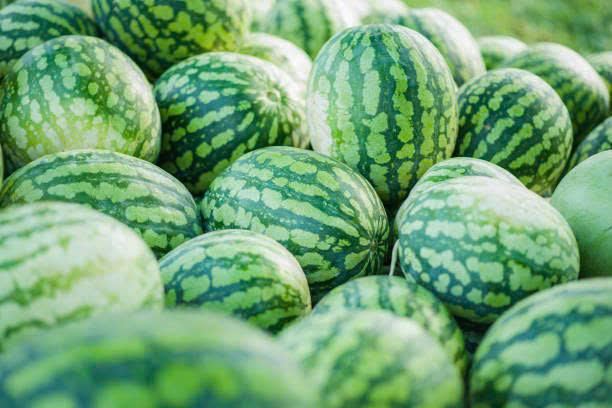watermelon: (404, 149, 573, 307), (309, 27, 464, 183), (205, 151, 379, 262), (8, 41, 163, 162), (12, 146, 195, 248), (302, 285, 452, 408), (2, 203, 156, 322), (153, 230, 329, 328), (170, 39, 309, 160), (474, 294, 612, 408), (471, 35, 594, 157), (86, 2, 254, 63)
